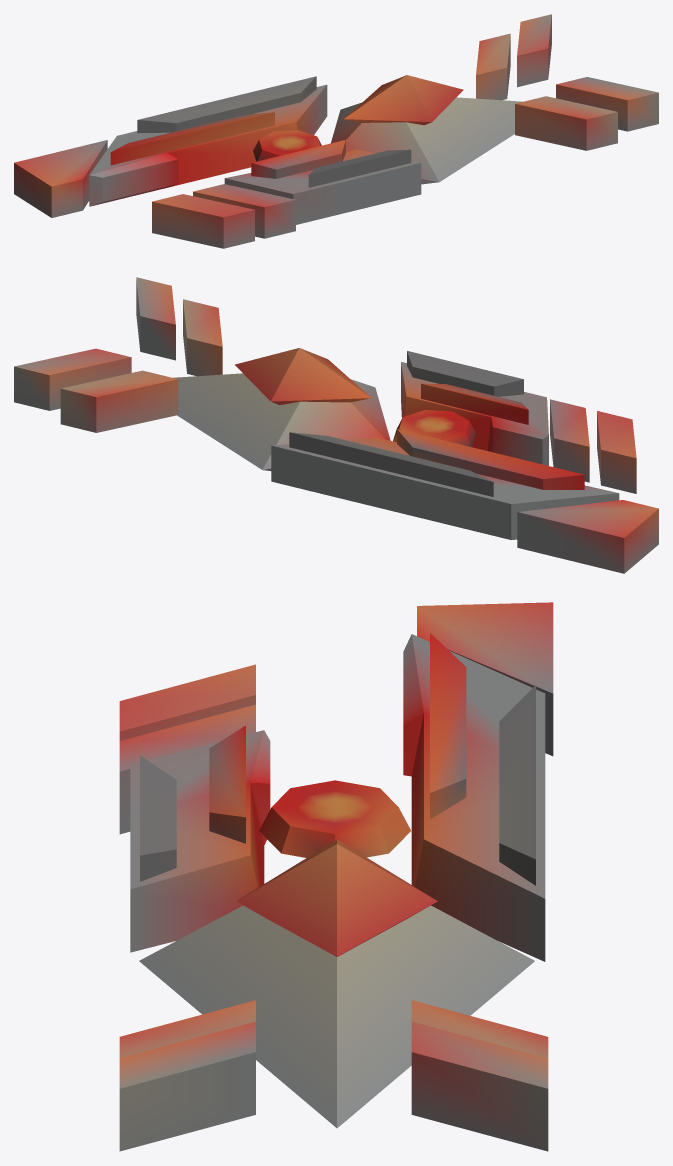
The model's file is EnemyRed.fbx.
3 views of the same model, one above another, from view 1: azimuth 30°, elevation 25°; view 2: azimuth 150°, elevation 25°; view 3: azimuth 270°, elevation 25° (orthographic). The views are drawn at different scales.
Parts seen in each view (by area): view 1: EnemyLasercannon; view 2: EnemyLasercannon; view 3: EnemyLasercannon.
Boxes of the visible parts, x1,y1,x2,y2 form: EnemyLasercannon: (14, 14, 658, 248); EnemyLasercannon: (14, 277, 658, 573); EnemyLasercannon: (119, 602, 553, 1151).
Bounding box in the file's own units: 625 × 122 × 219.
